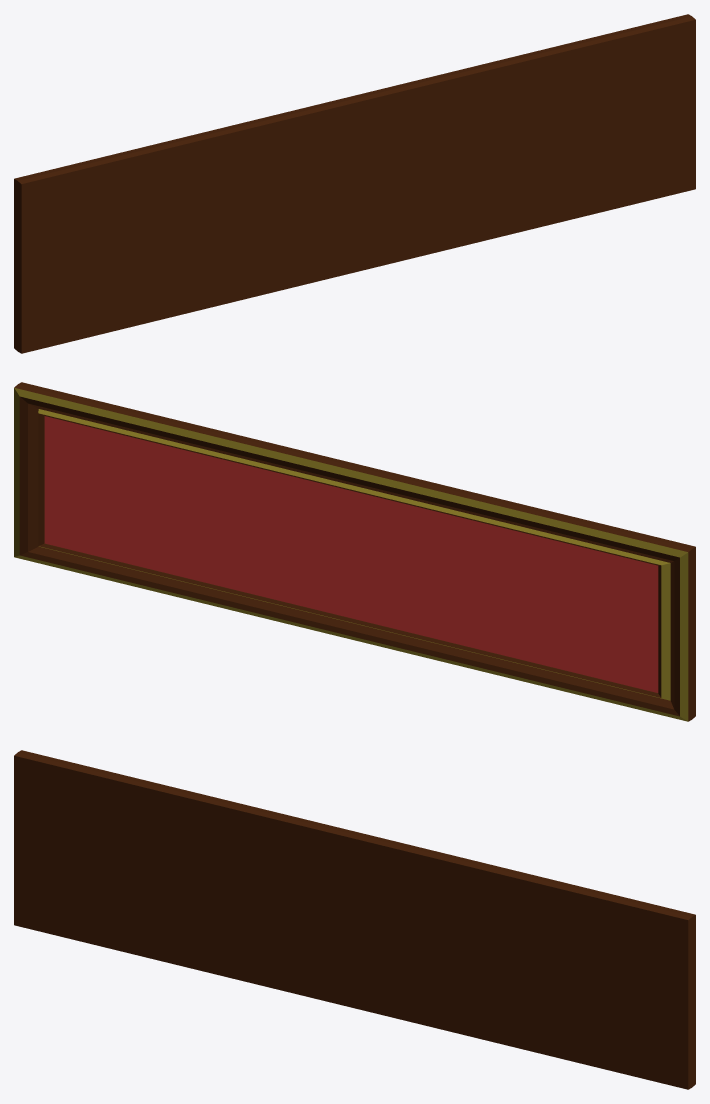
The model's file is rectangular_fino.fbx.
The picture shows the model from 3 angles, top to bottom: view 1: azimuth 30°, elevation 25°; view 2: azimuth 150°, elevation 25°; view 3: azimuth 330°, elevation 25°; orthographic projection.
Parts seen in each view (by area): view 1: Cuadro_strecho_fino; view 2: Cuadro_strecho_fino.001, Cuadro_strecho_fino; view 3: Cuadro_strecho_fino.
Part boxes in pixels (box(x1,y1,x2,y2)): Cuadro_strecho_fino: box(14, 14, 695, 353); Cuadro_strecho_fino.001: box(44, 416, 658, 692); Cuadro_strecho_fino: box(14, 382, 695, 721); Cuadro_strecho_fino: box(14, 750, 695, 1089).
Bounding box in the file's own units: 989 × 239 × 23.44.
